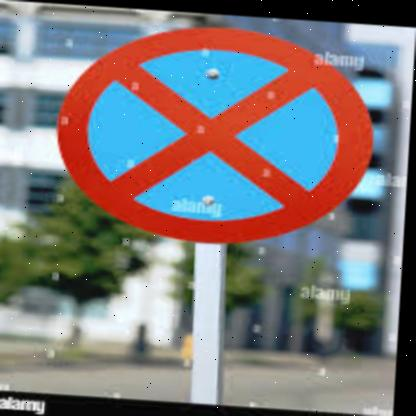No stopping: (45, 17, 366, 247)
